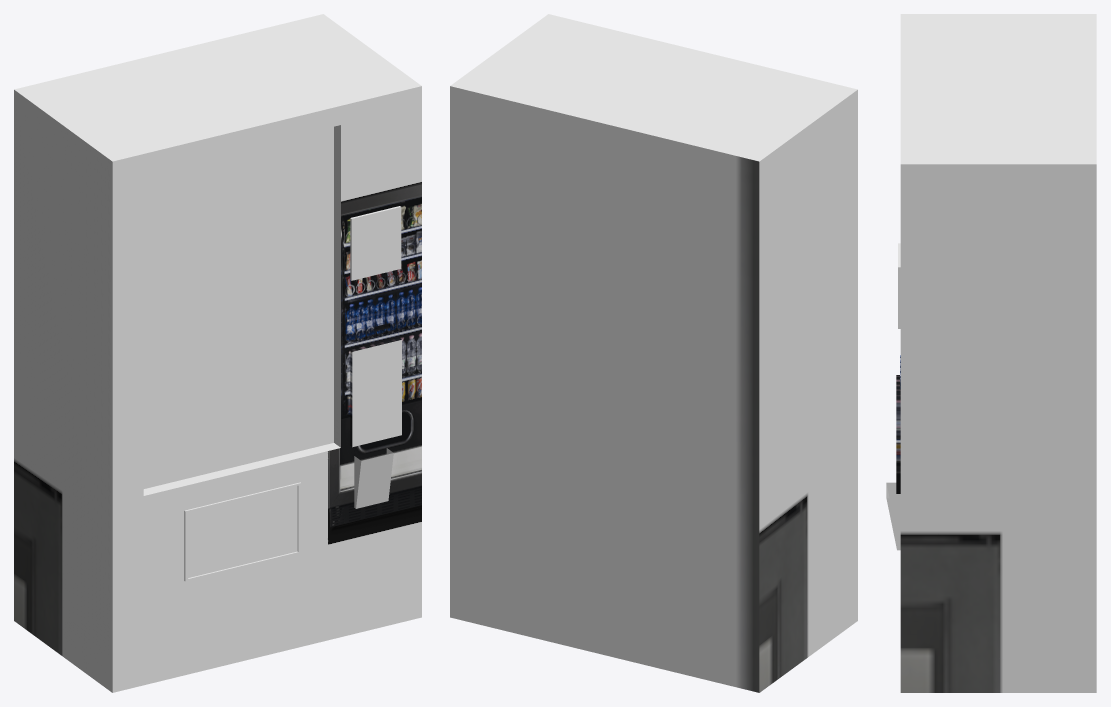
The model's file is distributorepouf_model.fbx.
3 views of the same model, side by side, from view 1: azimuth 30°, elevation 25°; view 2: azimuth 150°, elevation 25°; view 3: azimuth 270°, elevation 25° (orthographic).
Parts seen in each view (by area): view 1: pCube48; view 2: pCube48; view 3: pCube48.
Boxes of the visible parts, <box> form: pCube48: <box>14,14,421,692</box>; pCube48: <box>450,14,857,692</box>; pCube48: <box>886,14,1096,692</box>.
Size of the model in its own units: 1.73 by 2.84 by 1.02.
Materials: 1 (1 with a texture image).
